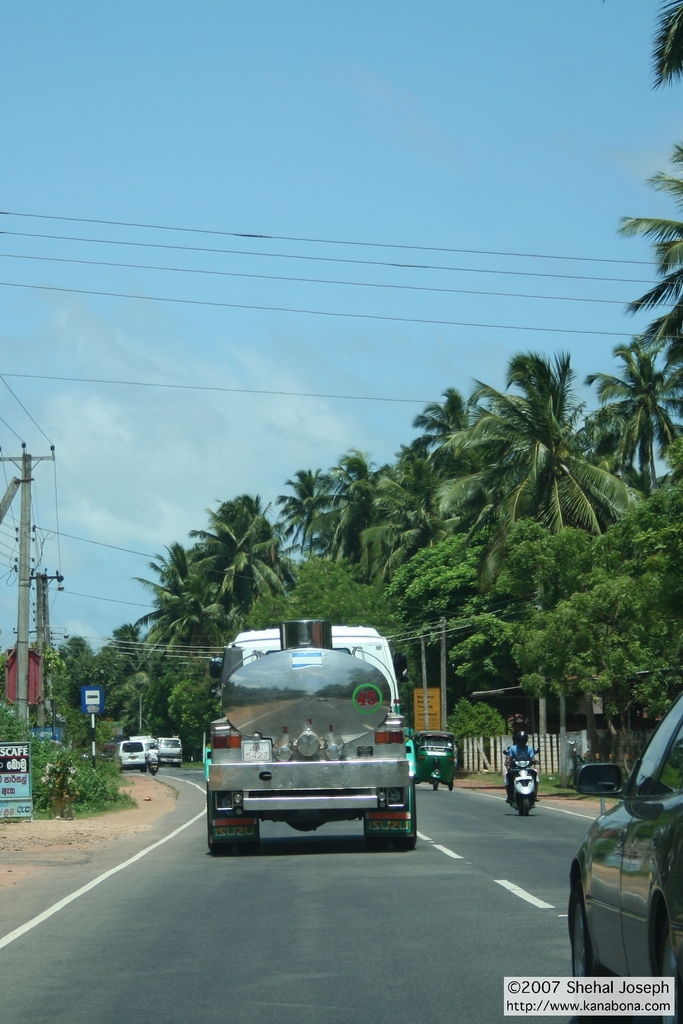Car: (565, 691, 682, 1023), (112, 739, 149, 775)
